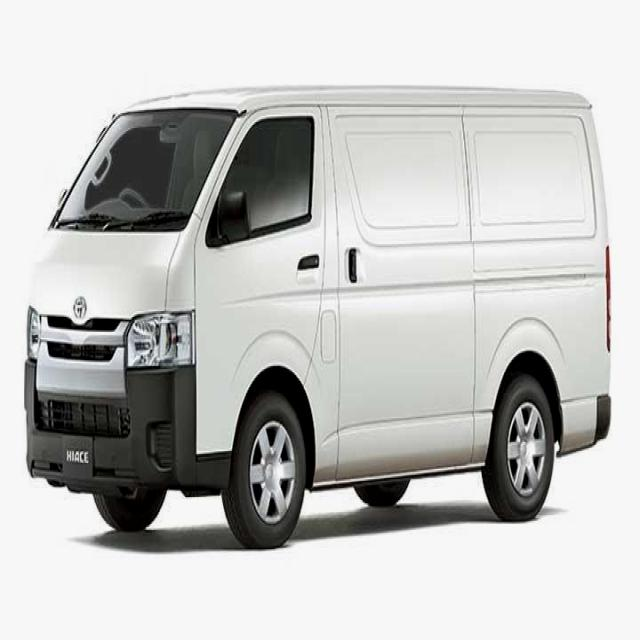Van: (24, 74, 612, 550)
